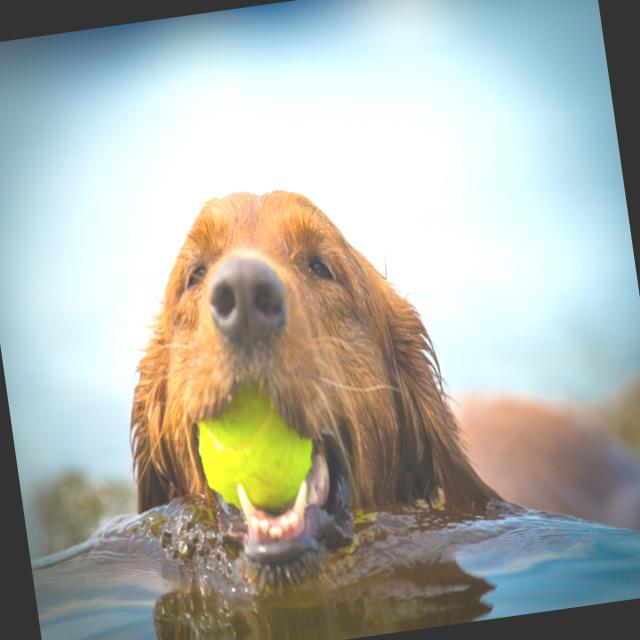Tennis ball: (190, 372, 324, 522)
